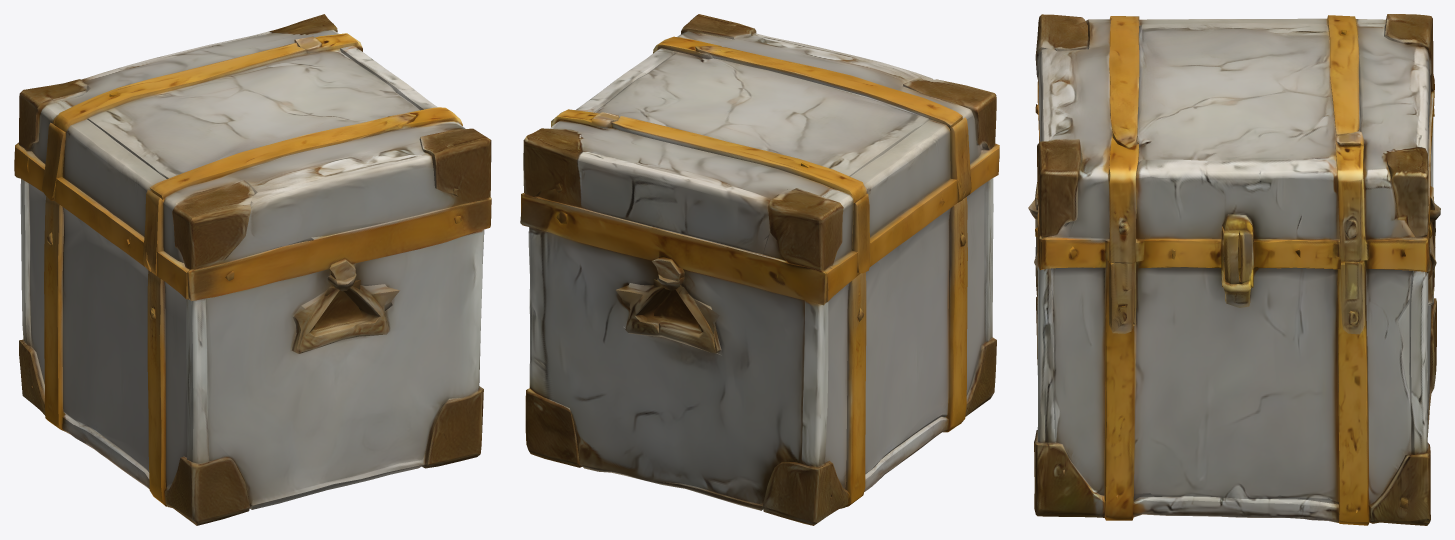
File: cargo_case.glb
3 renders of one model, left to right at view 1: azimuth 30°, elevation 25°; view 2: azimuth 150°, elevation 25°; view 3: azimuth 270°, elevation 25°, orthographic. The views are drawn at different scales.
Parts seen in each view (by area): view 1: model; view 2: model; view 3: model.
Part boxes in pixels (left/top/right/bottom): model: left=14, top=14, right=491, bottom=525; model: left=520, top=14, right=999, bottom=525; model: left=1028, top=14, right=1440, bottom=525.
Bounding box in the file's own units: 1 × 1 × 1.
1 material, 1 textured.
